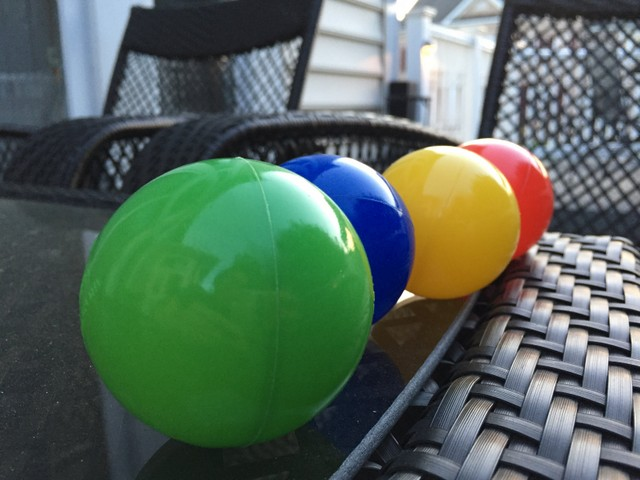Ball: (466, 137, 553, 256)
